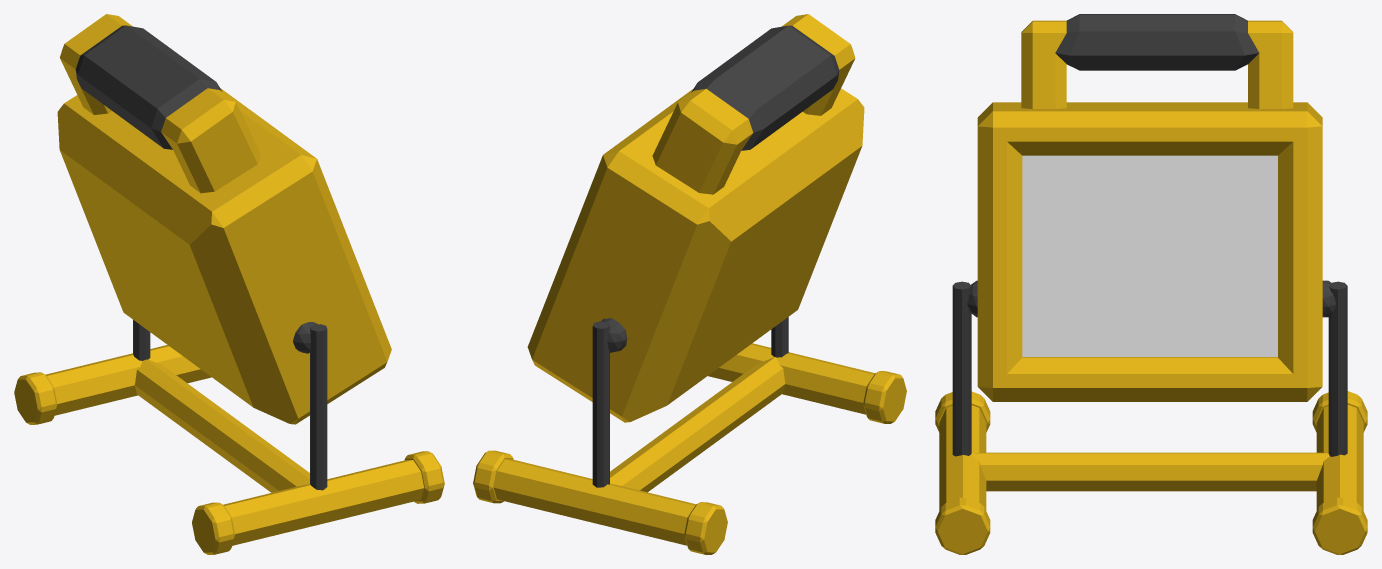
The model's file is Work Light A.fbx.
The picture shows the model from 3 angles, left to right: view 1: azimuth 30°, elevation 25°; view 2: azimuth 150°, elevation 25°; view 3: azimuth 270°, elevation 25°; orthographic projection. The views are drawn at different scales.
Visible parts, largest first — view 1: Work LIght A; view 2: Work LIght A; view 3: Work LIght A.
Boxes of the visible parts, x1=… form: Work LIght A: x1=14, y1=14, x2=444, y2=554; Work LIght A: x1=473, y1=14, x2=906, y2=554; Work LIght A: x1=935, y1=14, x2=1367, y2=554.
Bounding box in the file's own units: 50.78 × 89.47 × 78.06.
